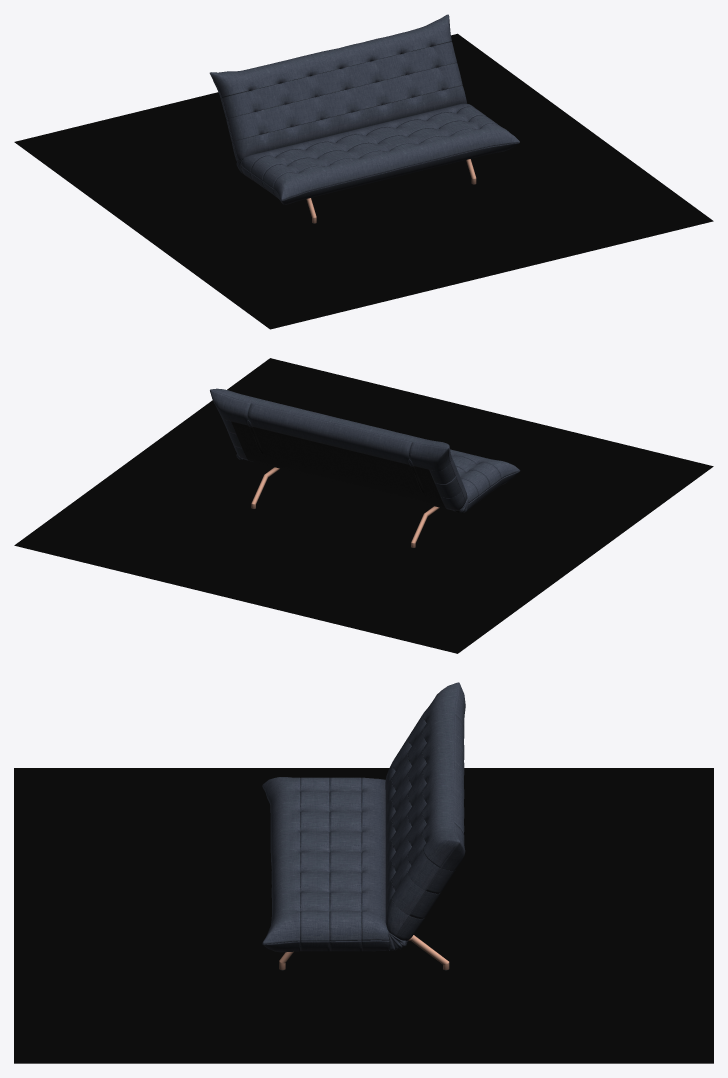
The model's file is keiko_sofa_bed_cygnet_grey.glb.
3 renders of one model, top to bottom at view 1: azimuth 30°, elevation 25°; view 2: azimuth 150°, elevation 25°; view 3: azimuth 270°, elevation 25°, orthographic. The views are drawn at different scales.
Parts seen in each view (by area): view 1: Plane001, FABRIC001; view 2: Plane001, FABRIC001, FABRIC_BLACK001, COPPER001; view 3: Plane001, FABRIC001.
Boxes of the visible parts, <box> form: Plane001: <box>14,33,713,329</box>; FABRIC001: <box>209,14,519,204</box>; Plane001: <box>14,358,713,653</box>; FABRIC001: <box>210,388,520,512</box>; FABRIC_BLACK001: <box>231,421,463,513</box>; COPPER001: <box>251,467,439,547</box>; Plane001: <box>14,768,713,1063</box>; FABRIC001: <box>262,682,465,952</box>.
Size of the model in its own units: 334 by 81.25 by 334.
5 materials, 5 textured.
